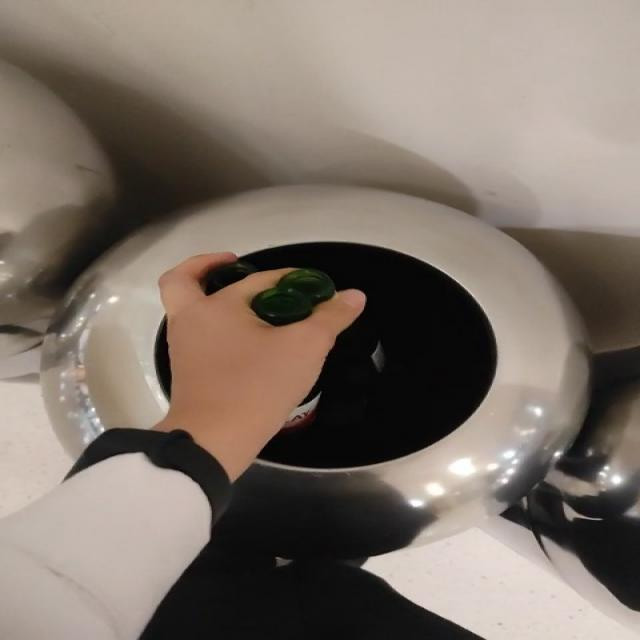Bin: (44, 185, 591, 560)
Glass: (251, 269, 336, 326), (321, 326, 376, 384), (201, 260, 259, 295), (284, 391, 321, 428)
